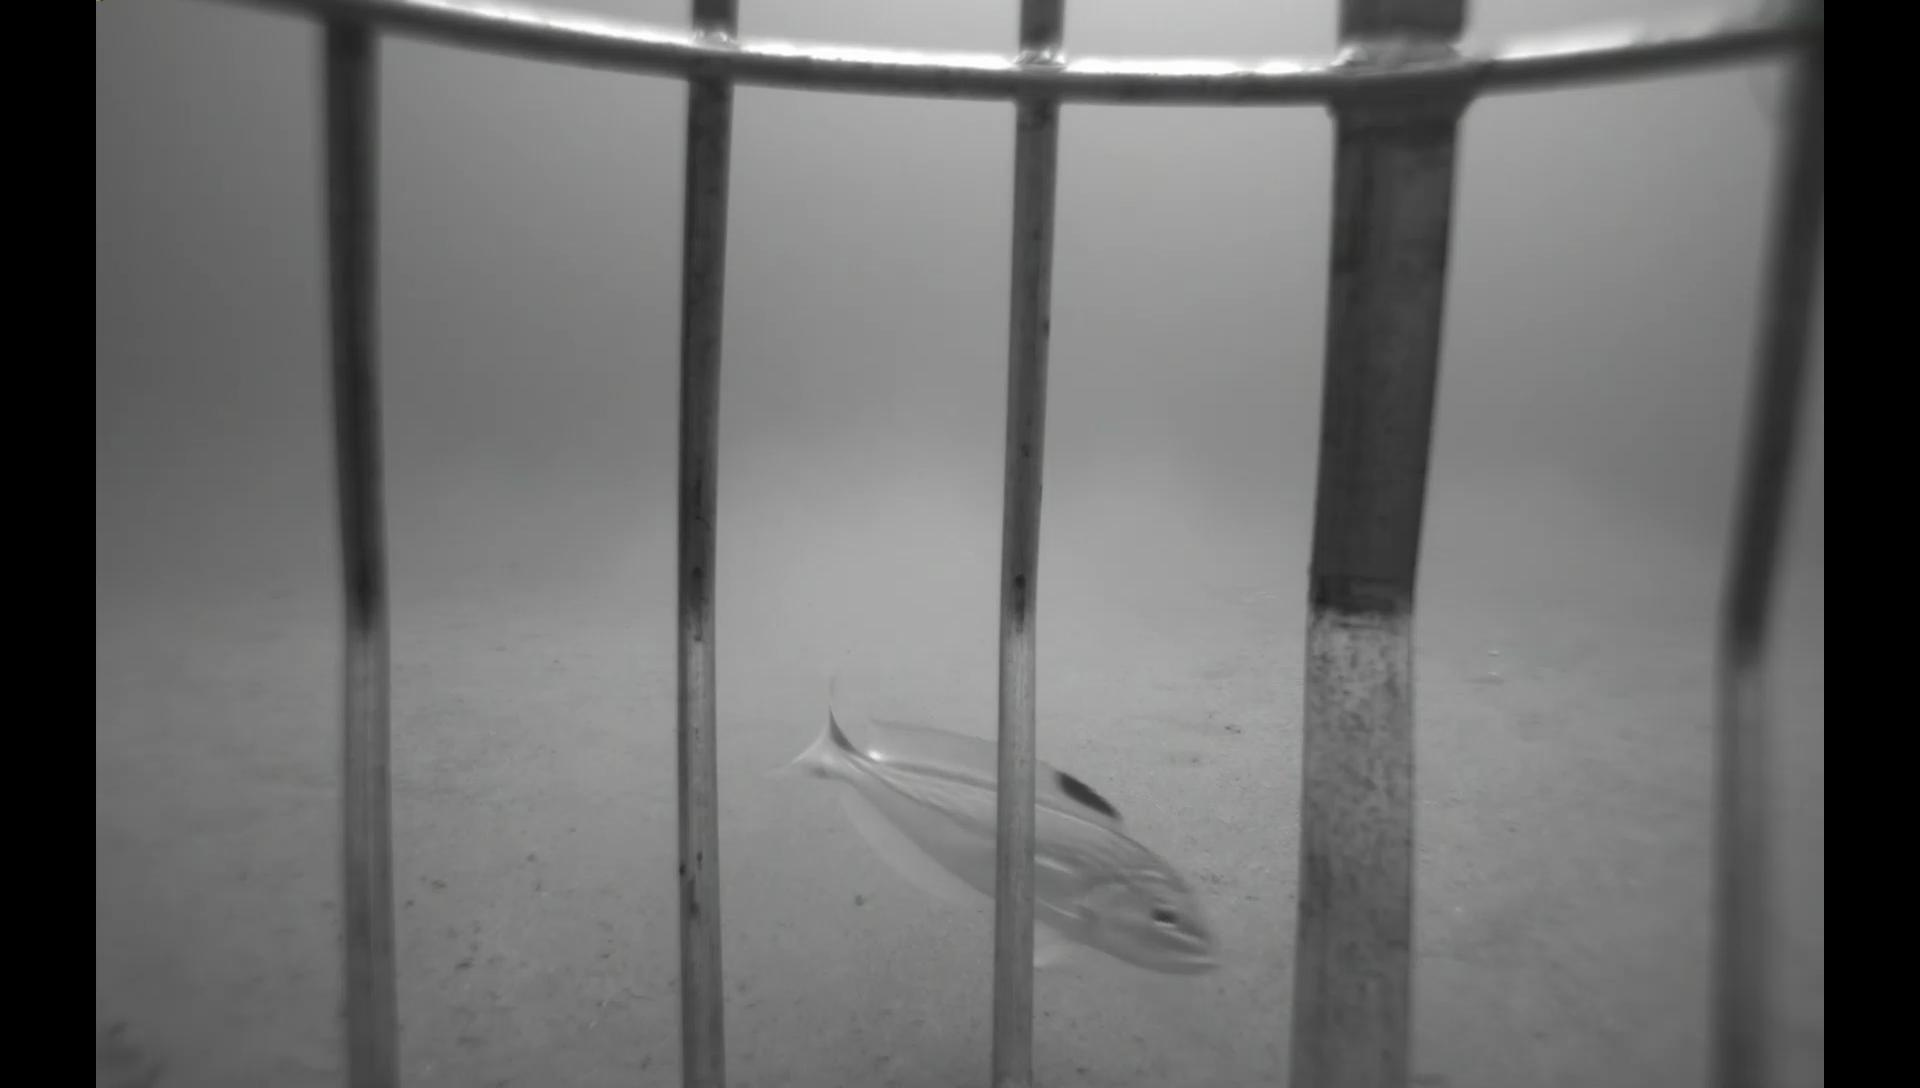CAULOLATILUSCYANOPS-170070101: (756, 666, 1228, 986)
SYACIUM-183011000: (1137, 698, 1244, 740)
